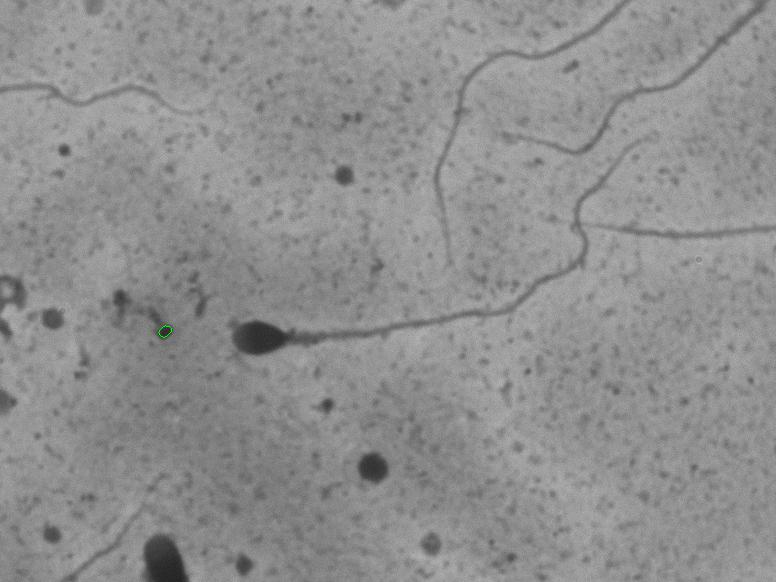Normal: (215, 136, 660, 380)
